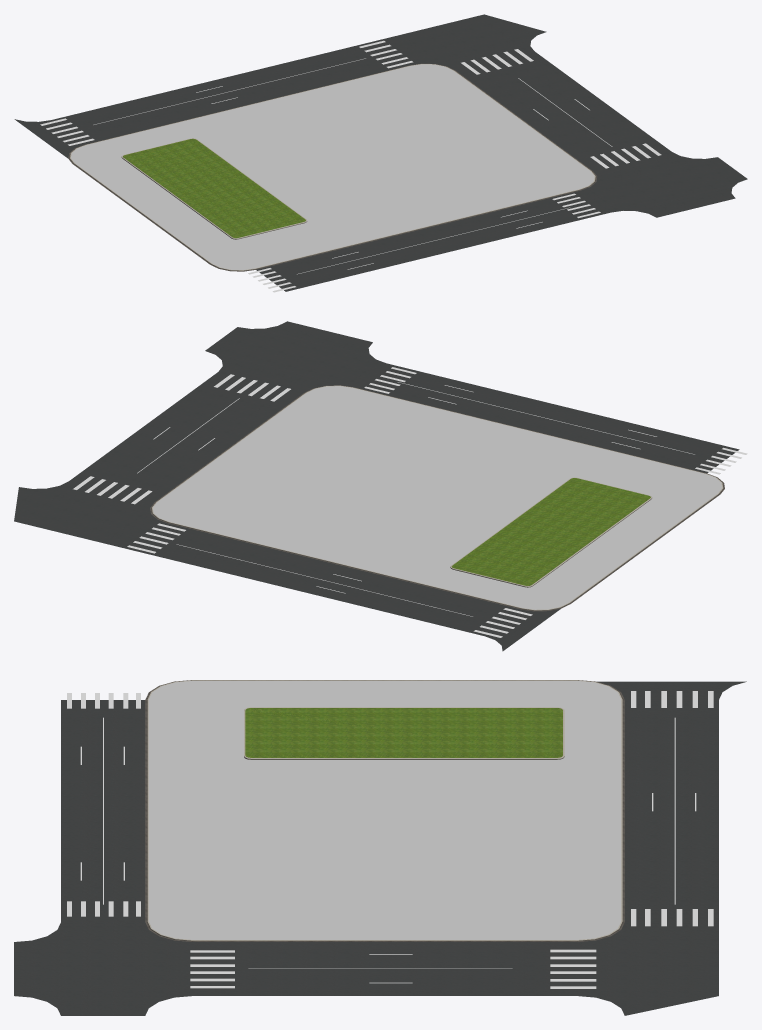
File: Terrain_Area_10.fbx
The picture shows the model from 3 angles, top to bottom: view 1: azimuth 30°, elevation 25°; view 2: azimuth 150°, elevation 25°; view 3: azimuth 270°, elevation 25°; orthographic projection. The views are drawn at different scales.
Parts seen in each view (by area): view 1: Area_10, Road_22, Road_Alpha_24, Road_Alpha_31, Road_Alpha_28; view 2: Area_10, Road_22, Road_Alpha_24, Road_Alpha_28, Road_Alpha_31; view 3: Area_10, Road_22, Road_Alpha_28, Road_Alpha_24, Road_Alpha_31.
Boxes of the visible parts, x1,y1,x2,y2 form: Area_10: (68, 63, 597, 271); Road_22: (14, 14, 747, 291); Road_Alpha_24: (40, 40, 413, 145); Road_Alpha_31: (248, 193, 600, 292); Road_Alpha_28: (461, 49, 661, 168); Area_10: (150, 385, 724, 611); Road_22: (14, 321, 739, 651); Road_Alpha_24: (127, 523, 532, 637); Road_Alpha_28: (73, 374, 290, 504); Road_Alpha_31: (364, 367, 747, 474); Area_10: (145, 680, 624, 941); Road_22: (14, 681, 746, 1015); Road_Alpha_28: (190, 949, 596, 988); Road_Alpha_24: (631, 691, 713, 926); Road_Alpha_31: (67, 693, 140, 916).
Size of the model in its own units: 8527 by 21.84 by 7874.
